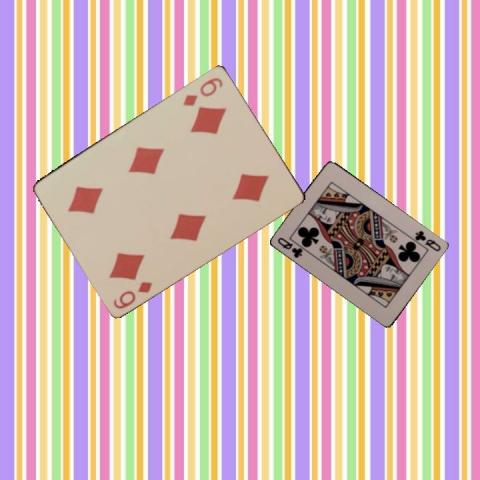6d: (180, 74, 225, 107), (110, 278, 154, 310)
Qc: (412, 227, 443, 253), (275, 234, 304, 259)
